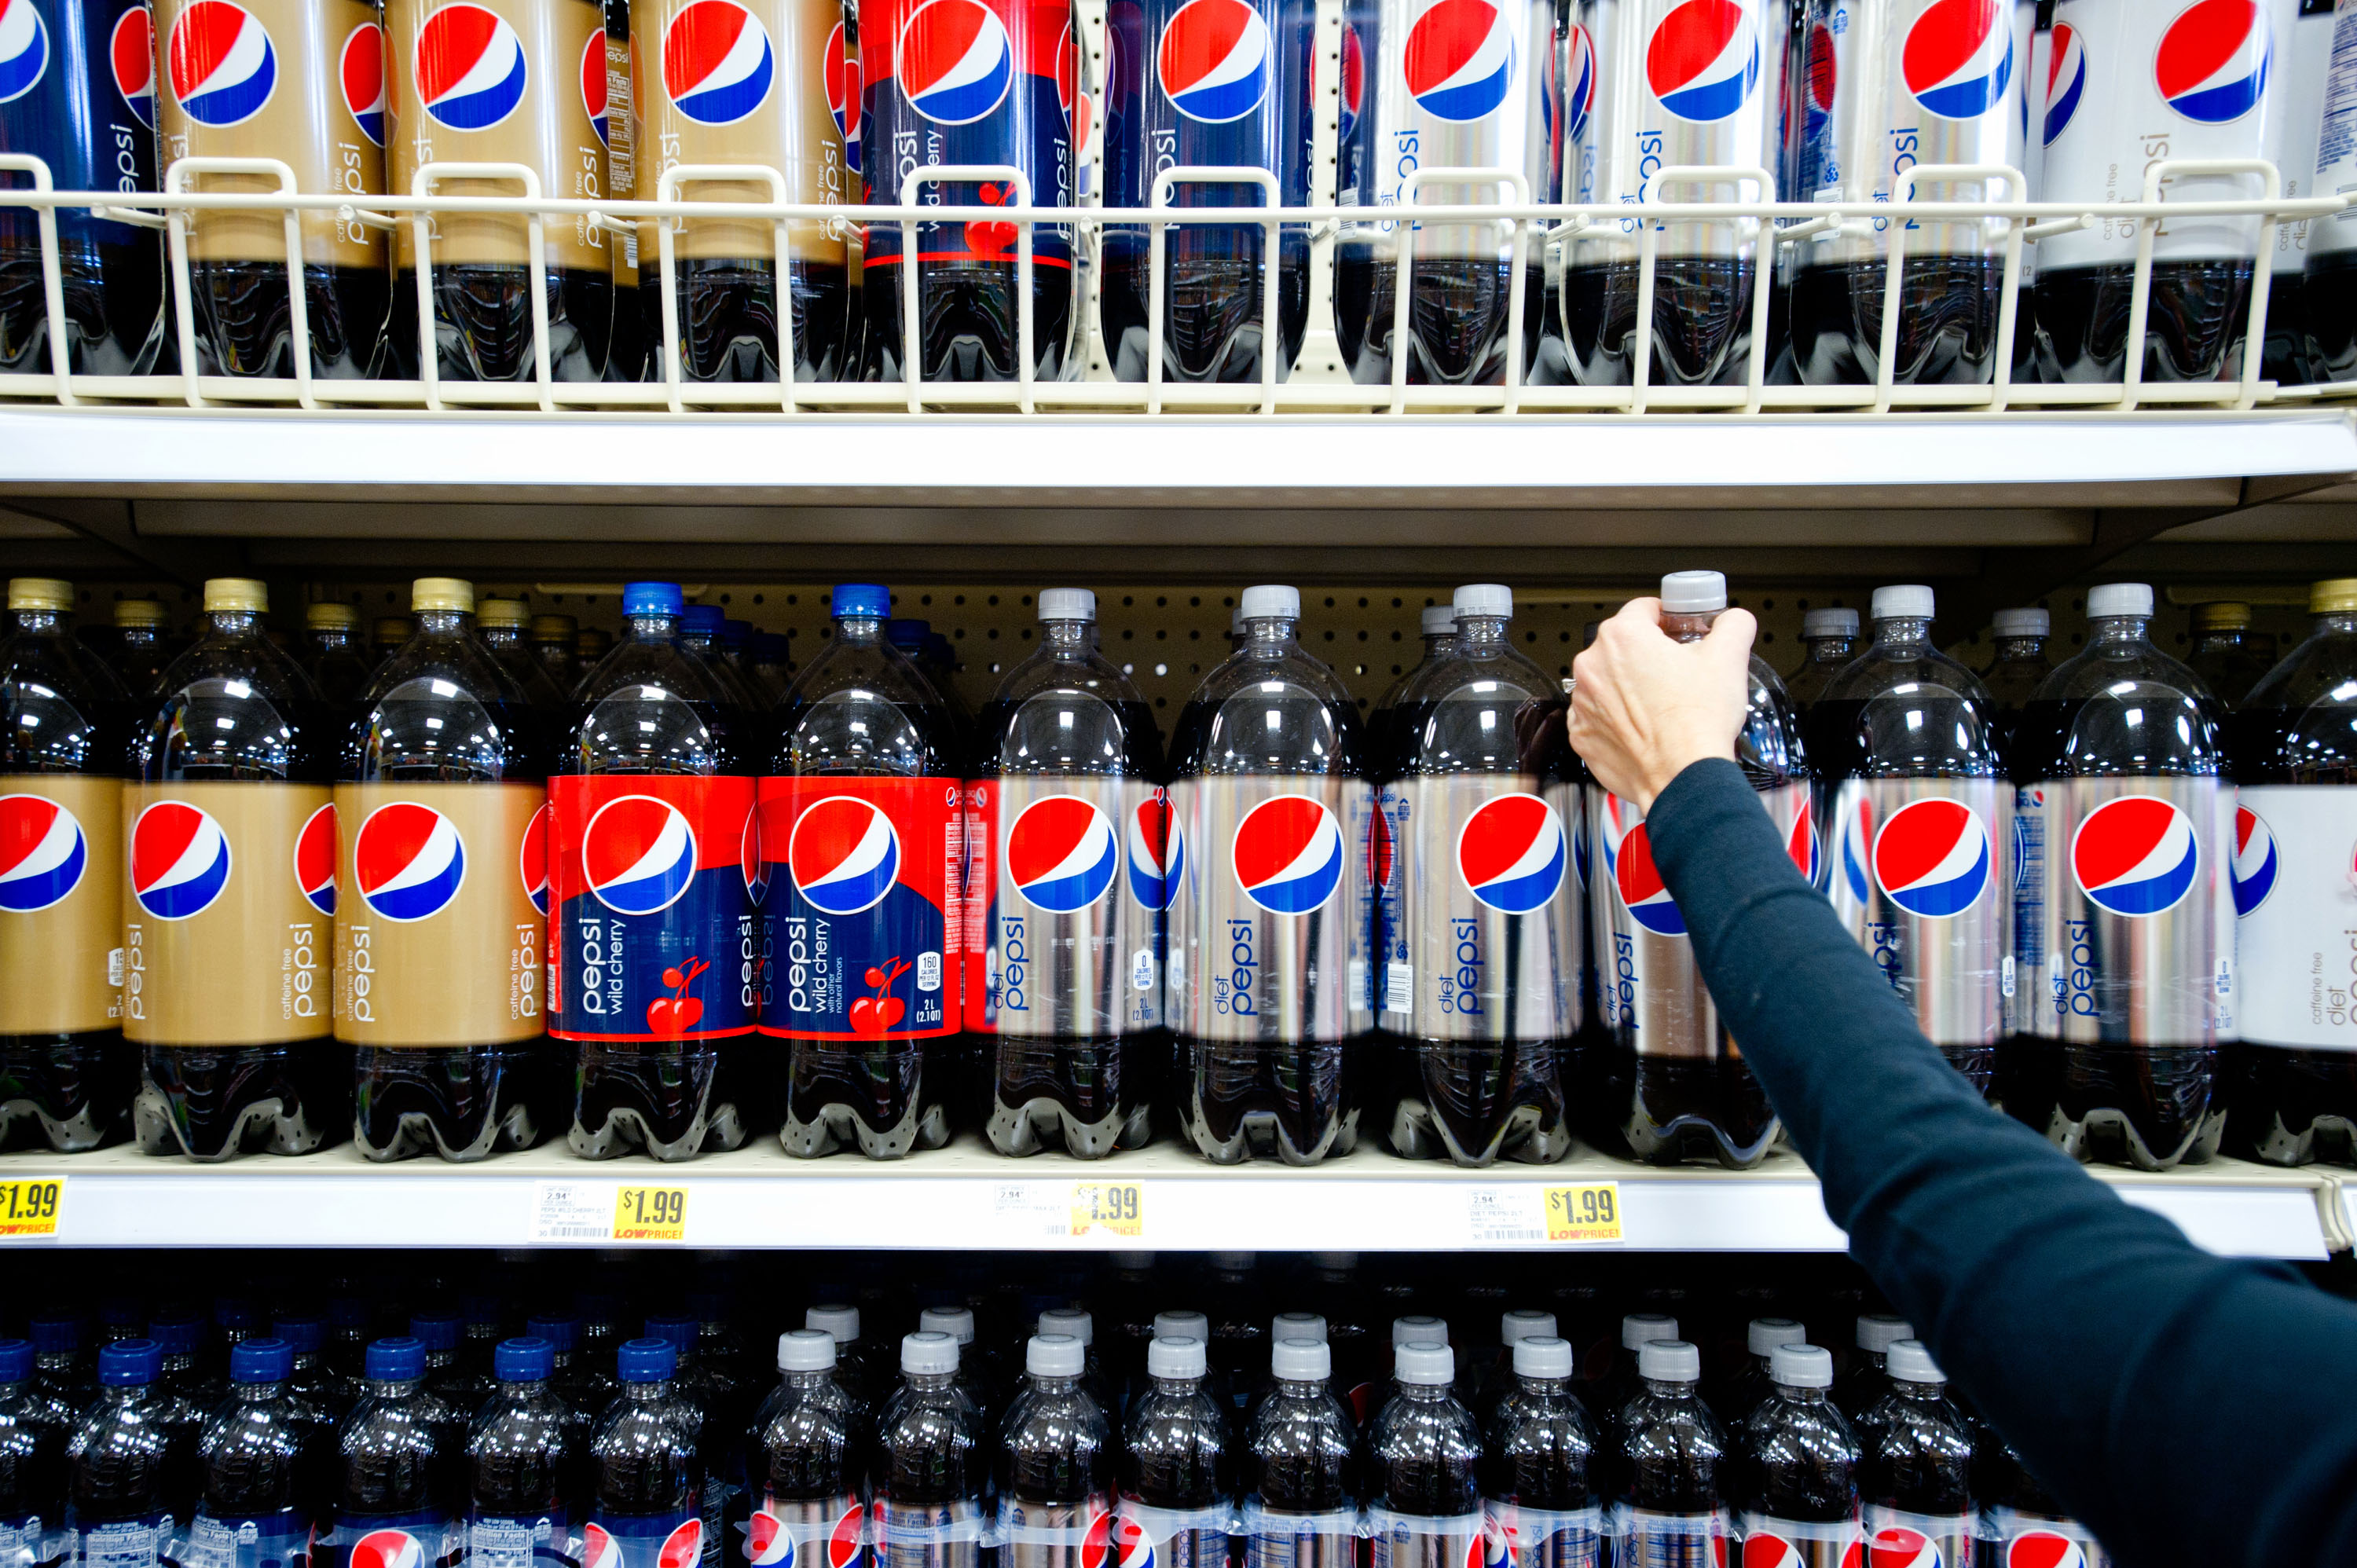pepsi: (2068, 793, 2196, 915), (353, 795, 467, 921), (164, 0, 278, 124), (415, 0, 523, 130), (1897, 0, 2014, 119), (656, 4, 772, 124), (1643, 0, 1764, 116), (1225, 795, 1340, 914), (894, 0, 1008, 121), (794, 782, 899, 912), (1151, 2, 1269, 116), (1405, 0, 1517, 119), (1459, 793, 1570, 914), (2154, 0, 2264, 121), (131, 791, 231, 924), (586, 800, 695, 917), (1881, 796, 1993, 906), (794, 795, 899, 912), (1010, 796, 1116, 910), (1881, 803, 1993, 906), (7, 784, 89, 922), (1613, 826, 1692, 938), (2240, 800, 2282, 924)
